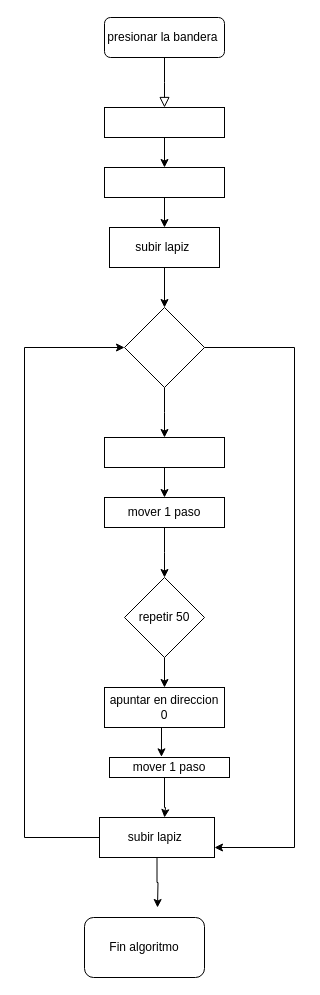
Some shapes in this 320 by 995 pixel diagram are drawn without their labels. Here are the shapes that lost their labels. From the top down, the centre of each, then its label:
At (164,122): "ir a X:206 Y:104".
At (164,182): "borrar todo".
At (164,347): "repetir 100".
At (164,452): "apuntar en direccion 90".
